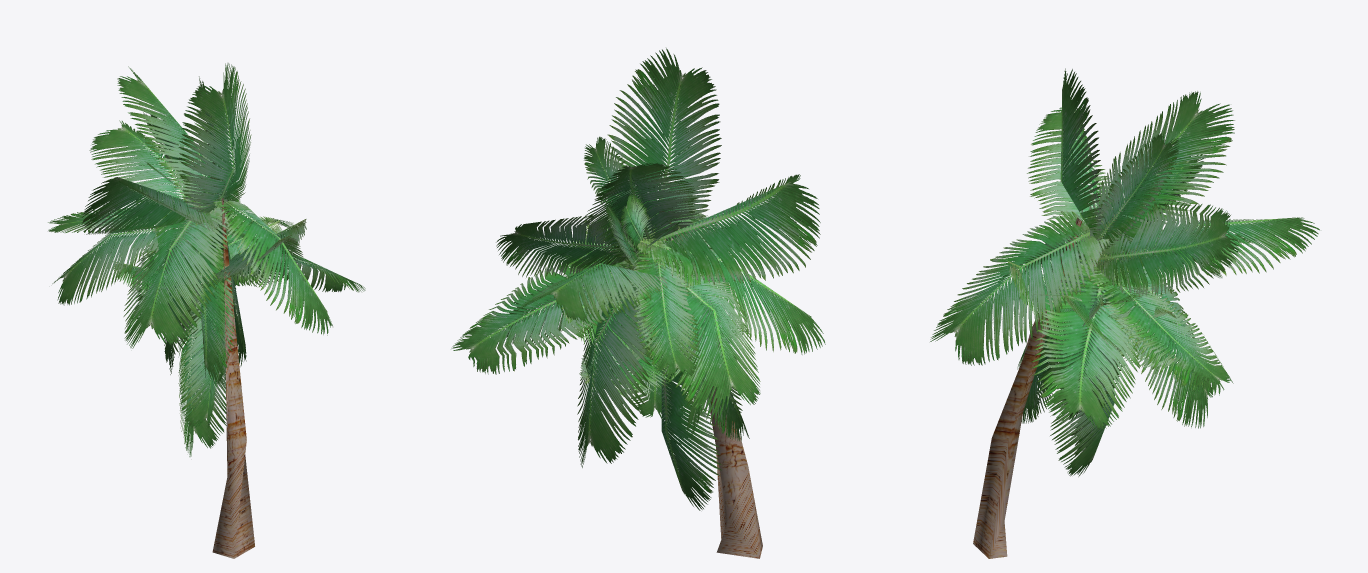
File: palm_tree_3_texta.glb
The picture shows the model from 3 angles, left to right: view 1: azimuth 30°, elevation 25°; view 2: azimuth 150°, elevation 25°; view 3: azimuth 270°, elevation 25°; orthographic projection. The views are drawn at different scales.
Parts seen in each view (by area): view 1: jungle_tree_2_leaves.002; view 2: jungle_tree_2_leaves.002; view 3: jungle_tree_2_leaves.002.
Boxes of the visible parts, x1=… form: jungle_tree_2_leaves.002: x1=48, y1=63, x2=365, y2=558; jungle_tree_2_leaves.002: x1=451, y1=48, x2=825, y2=558; jungle_tree_2_leaves.002: x1=930, y1=68, x2=1319, y2=558.
Size of the model in its own units: 9.88 by 13.42 by 10.44.
Materials: 1 (1 with a texture image).
